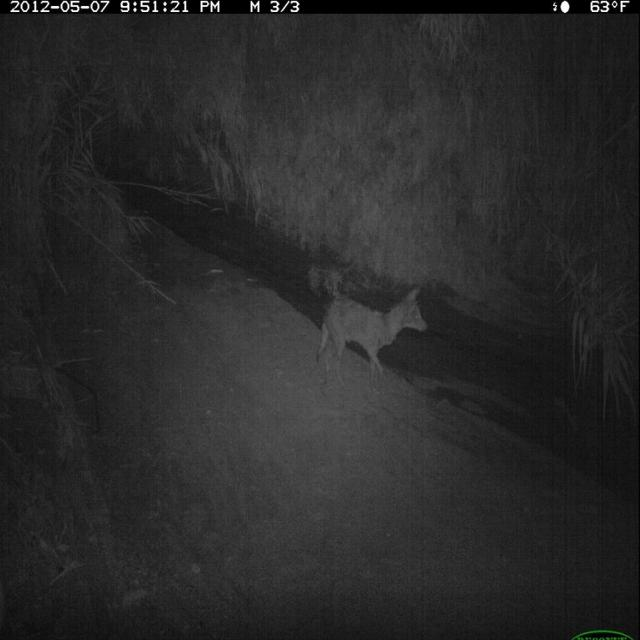coyote: (312, 283, 430, 399)
